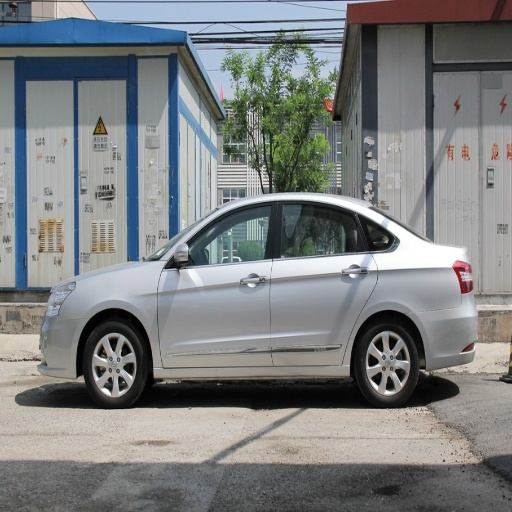back_left_door: (272, 200, 376, 362)
front_left_door: (158, 200, 275, 365)
